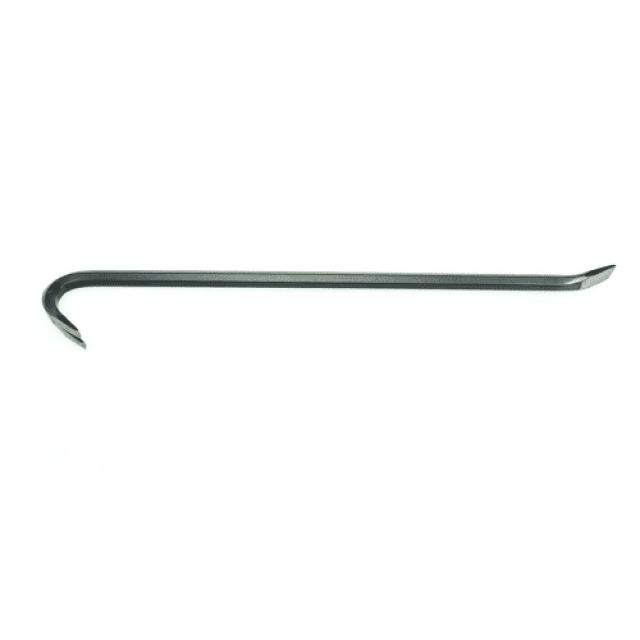Linggis: (41, 263, 618, 347)
